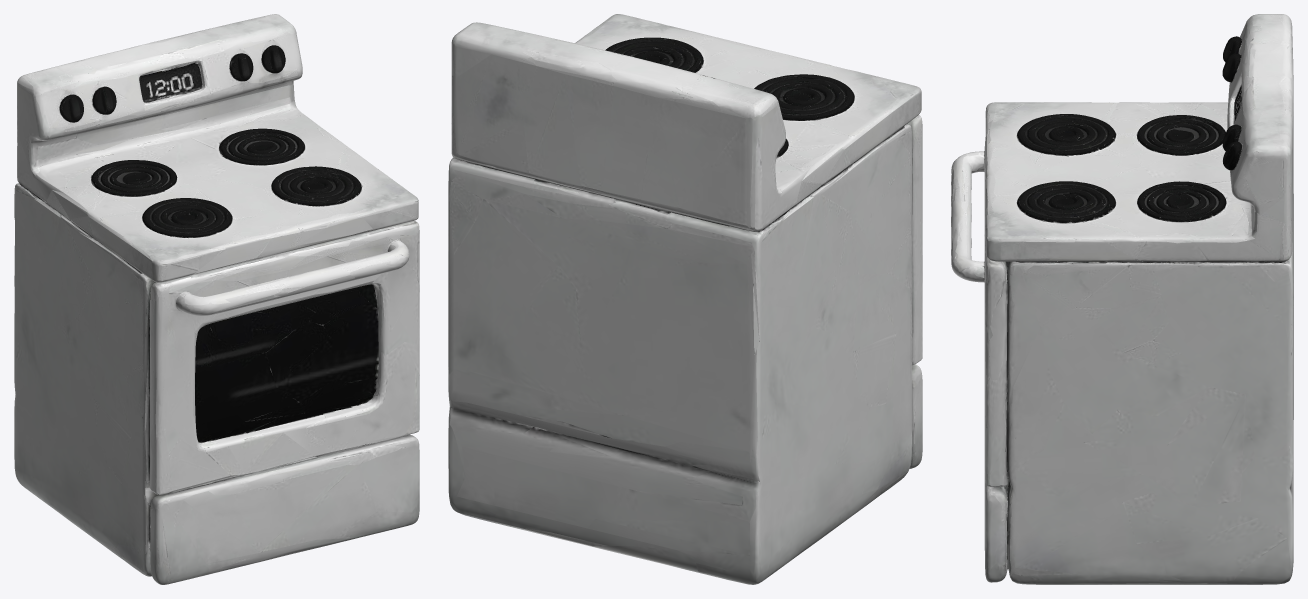
The model's file is stove.glb.
3 views of the same model, side by side, from view 1: azimuth 30°, elevation 25°; view 2: azimuth 150°, elevation 25°; view 3: azimuth 270°, elevation 25° (orthographic). The views are drawn at different scales.
Size of the model in its own units: 1.28 by 1.9 by 1.33.
1 material, 1 textured.
